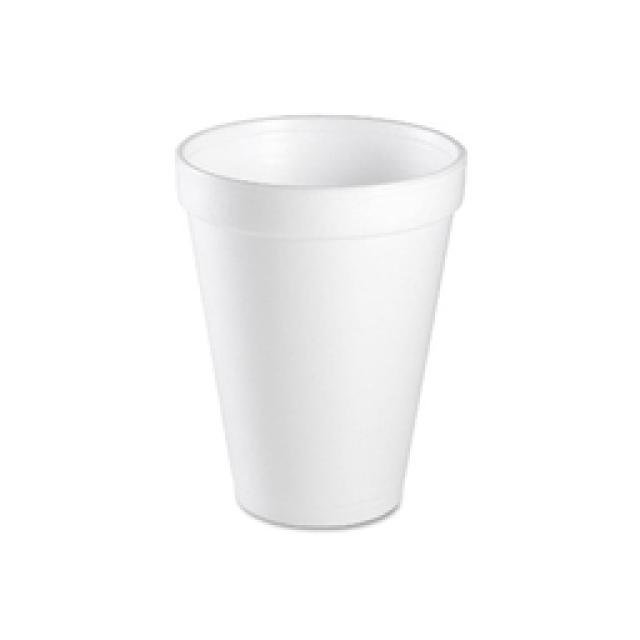styrofoam: (175, 115, 465, 525)
